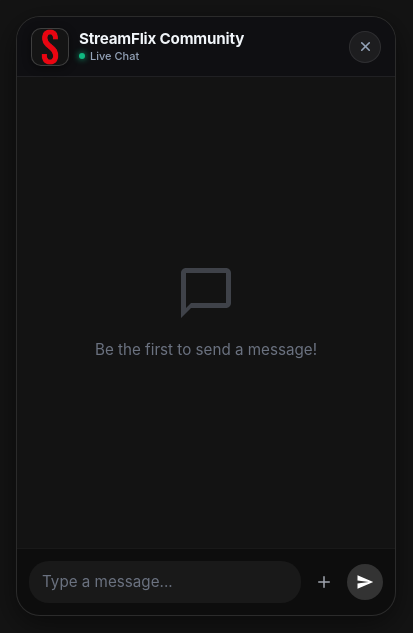
Test: GlobalChat Google Identity Rendering › supports duplicate Google display names keyed by UID in profile cache and mentions
The image size is (413, 633).
// Type @al to trigger mention popup
Type "Hey @al" into the text box with placeholder "Type a message..." at coordinates (165, 582), box [42,562,288,602]
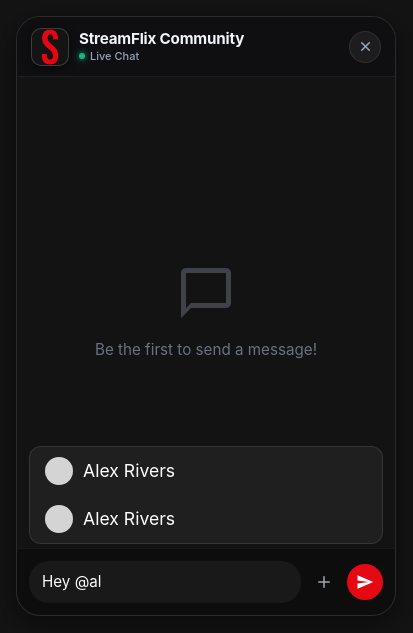
Check: the number of elements with class "gc-mention-item" is 2
Check: the 1st element with class "gc-mention-item" reads "Alex Rivers", box [83,460,175,481]
Check: the 2nd element with class "gc-mention-item" reads "Alex Rivers", box [83,508,175,529]
// Click on one of the duplicate name mentions
Click the 1st element with class "gc-mention-item" at coordinates (110, 471), box [45,457,175,485]
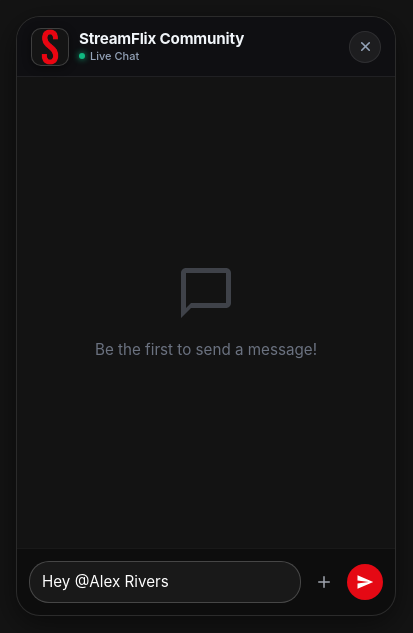
Check: the text box with placeholder "Type a message..." holds "Hey @Alex Rivers ", box [42,562,288,602]
